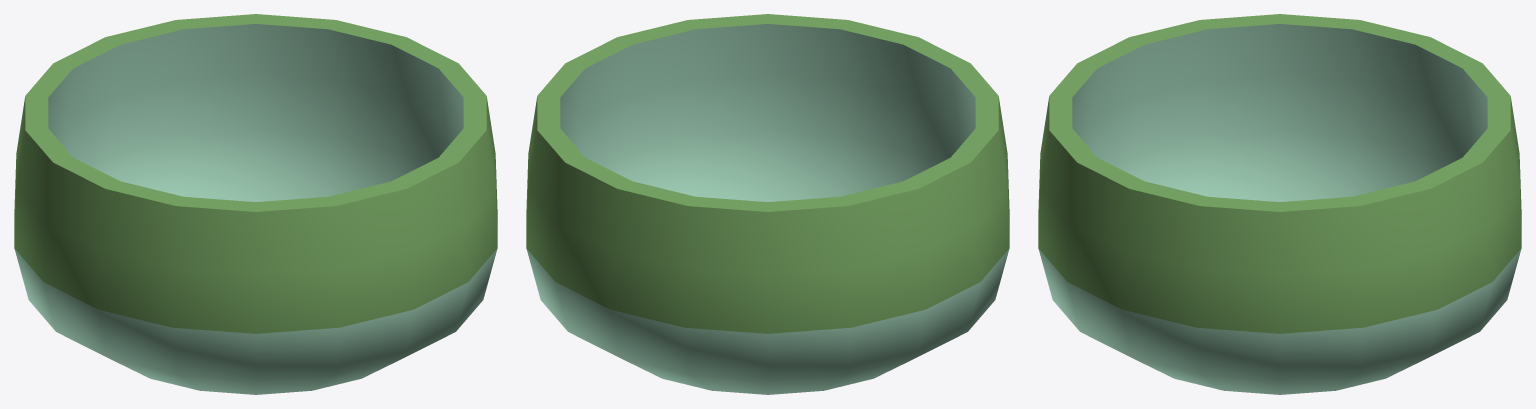
Rendered from SM_Dishes_11.fbx.
3 renders of one model, left to right at view 1: azimuth 30°, elevation 25°; view 2: azimuth 150°, elevation 25°; view 3: azimuth 270°, elevation 25°, orthographic.
Parts seen in each view (by area): view 1: SM_Dishes_11; view 2: SM_Dishes_11; view 3: SM_Dishes_11.
Part boxes in pixels (x1=…): SM_Dishes_11: x1=14, y1=14, x2=497, y2=394; SM_Dishes_11: x1=526, y1=14, x2=1009, y2=394; SM_Dishes_11: x1=1038, y1=14, x2=1521, y2=394.
Bounding box in the file's own units: 43.03 × 42.37 × 20.56.
